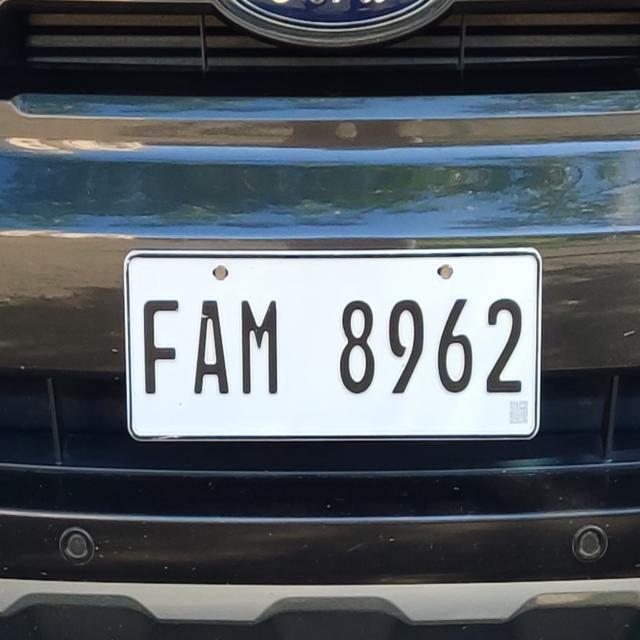plate: (113, 237, 553, 456)
